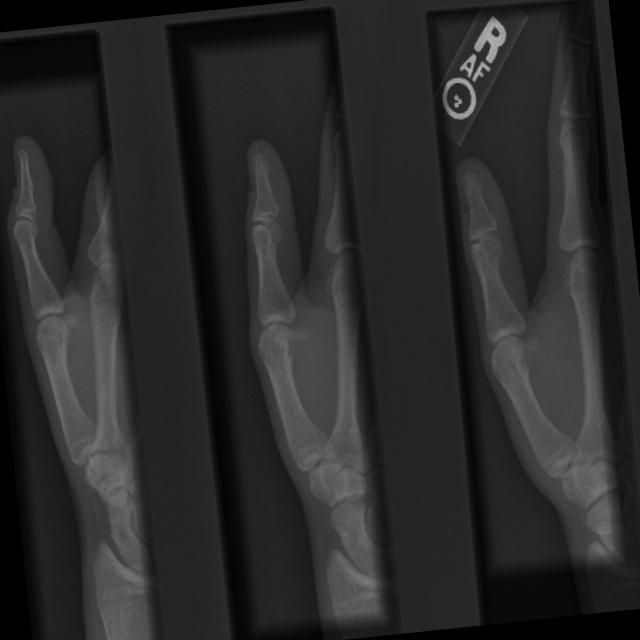fingers positive: (452, 181, 499, 222)
